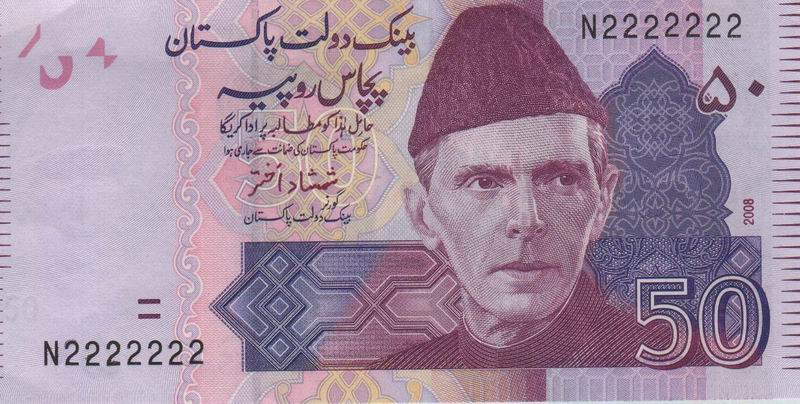50 rupee: (8, 8, 786, 404)
